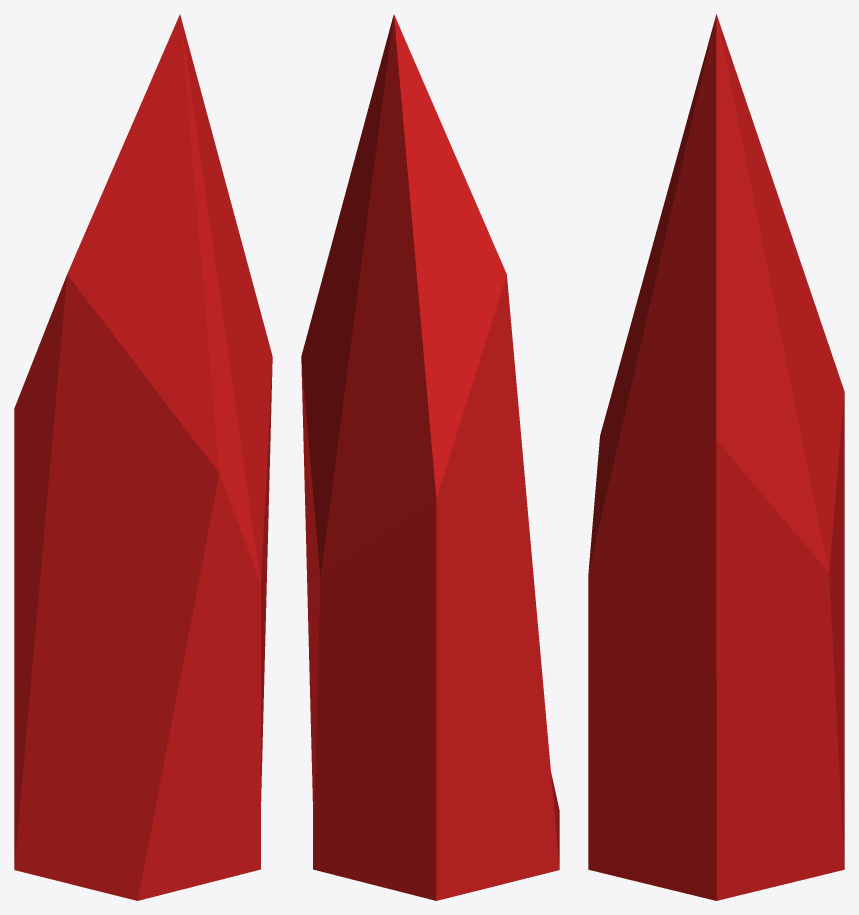
File: Crystale_Plat_1.FBX
3 views of the same model, side by side, from view 1: azimuth 30°, elevation 25°; view 2: azimuth 150°, elevation 25°; view 3: azimuth 270°, elevation 25° (orthographic). The views are drawn at different scales.
Parts seen in each view (by area): view 1: Spindle005; view 2: Spindle005; view 3: Spindle005.
Part boxes in pixels (left/top/right/bottom): Spindle005: left=14, top=14, right=272, bottom=900; Spindle005: left=301, top=14, right=559, bottom=900; Spindle005: left=588, top=14, right=844, bottom=900.
Size of the model in its own units: 45.67 by 138 by 37.75.
